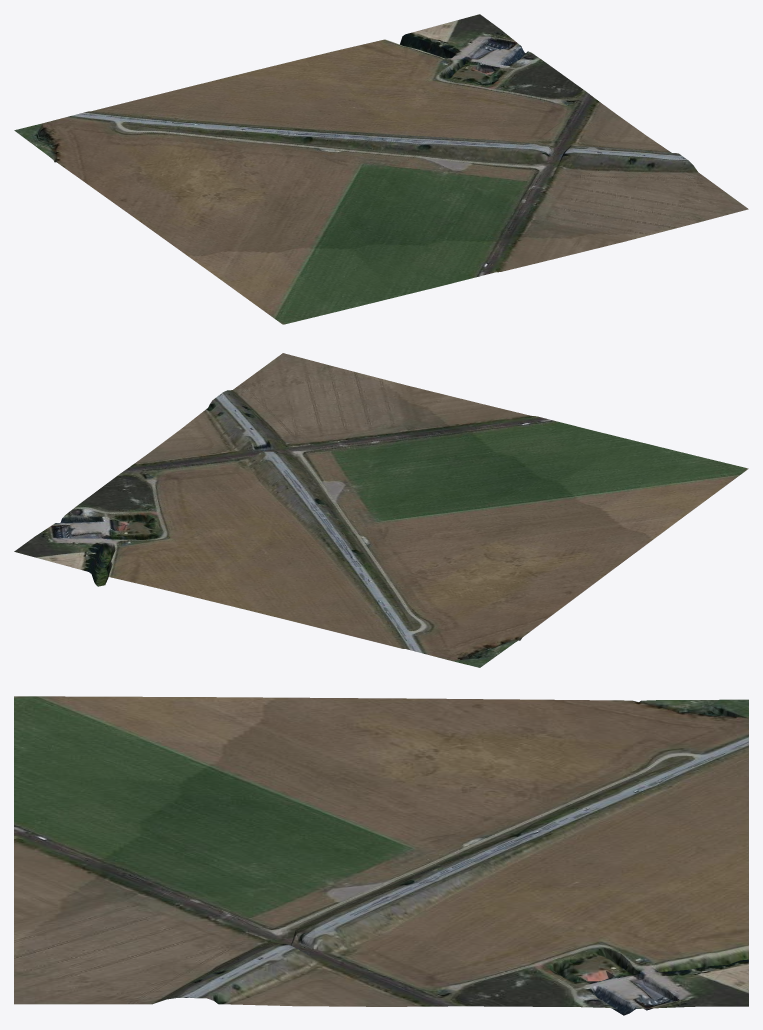
The model's file is map_12_1020_1721.dae.
3 views of the same model, one above another, from view 1: azimuth 30°, elevation 25°; view 2: azimuth 150°, elevation 25°; view 3: azimuth 270°, elevation 25° (orthographic). The views are drawn at different scales.
Visible parts, largest first — view 1: Ter0; view 2: Ter0; view 3: Ter0.
Part boxes in pixels (box(x1,y1,x2,y2)): Ter0: box(14, 14, 748, 324); Ter0: box(14, 353, 748, 667); Ter0: box(14, 696, 748, 1015).
Bounding box in the file's own units: 511 × 511 × 22.24.
3 materials, 3 textured.
